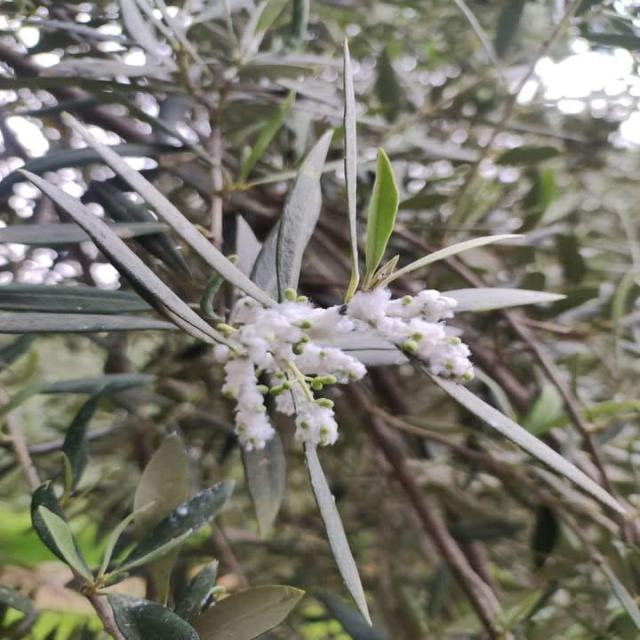Psyllid: (346, 286, 564, 417), (213, 288, 365, 453)
